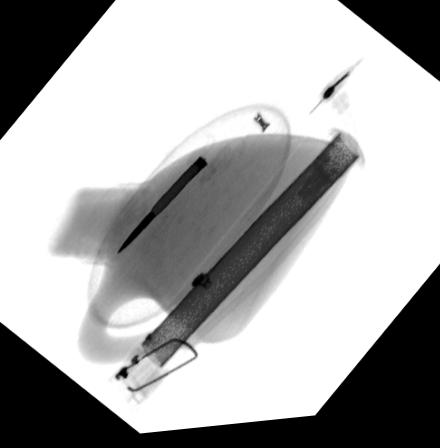Bullet: (114, 157, 211, 259)
